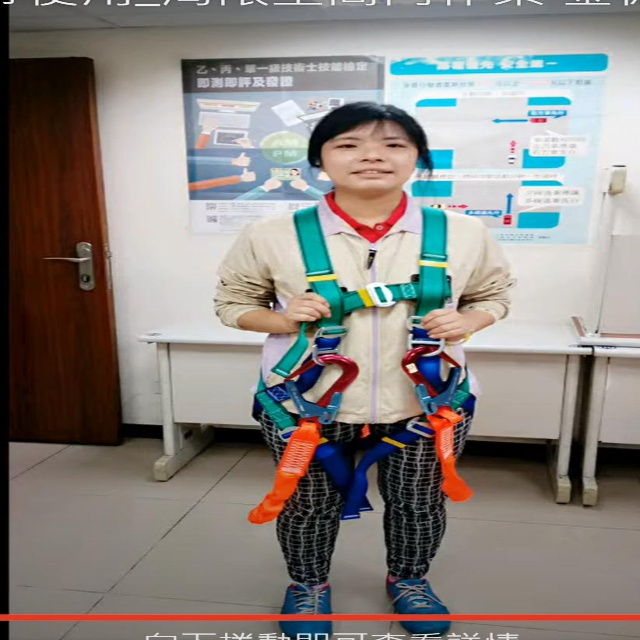Arnes_seguridad: (245, 205, 476, 525)
